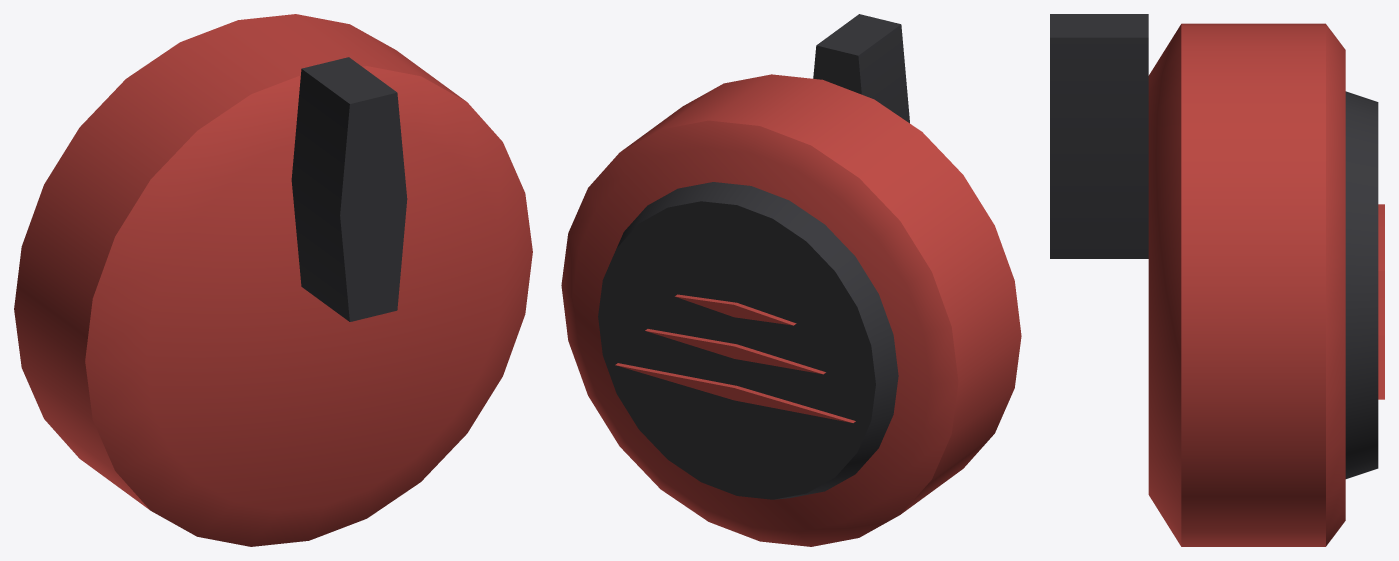
The model's file is disc.glb.
3 renders of one model, left to right at view 1: azimuth 30°, elevation 25°; view 2: azimuth 150°, elevation 25°; view 3: azimuth 270°, elevation 25°, orthographic. The views are drawn at different scales.
Visible parts, largest first — view 1: lod0; view 2: lod0; view 3: lod0.
Part boxes in pixels (x1,y1,x2,y2): lod0: [14, 14, 532, 546]; lod0: [561, 14, 1021, 546]; lod0: [1050, 14, 1384, 546].
Size of what is drawn, in the model's own units: 0.08 by 0.0836 by 0.051.
